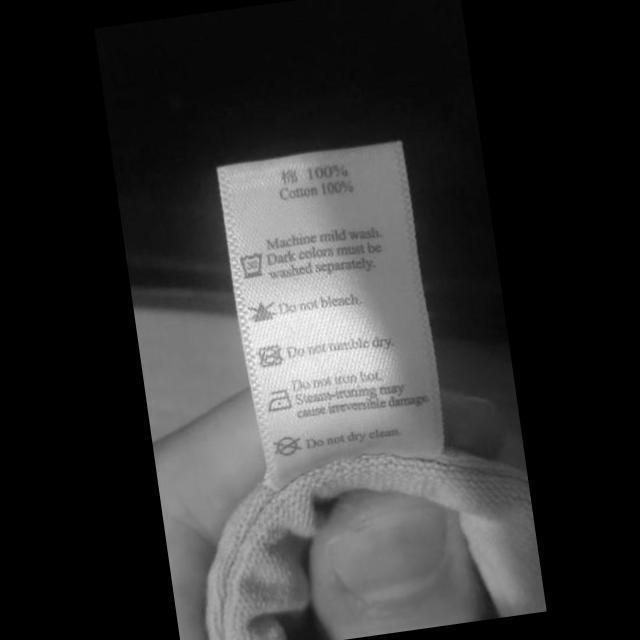30C: (236, 250, 265, 280)
DN_bleach: (244, 298, 279, 326)
DN_dry_clean: (269, 434, 303, 458)
DN_tumble_dry: (253, 342, 286, 370)
iron_low: (264, 386, 294, 414)
